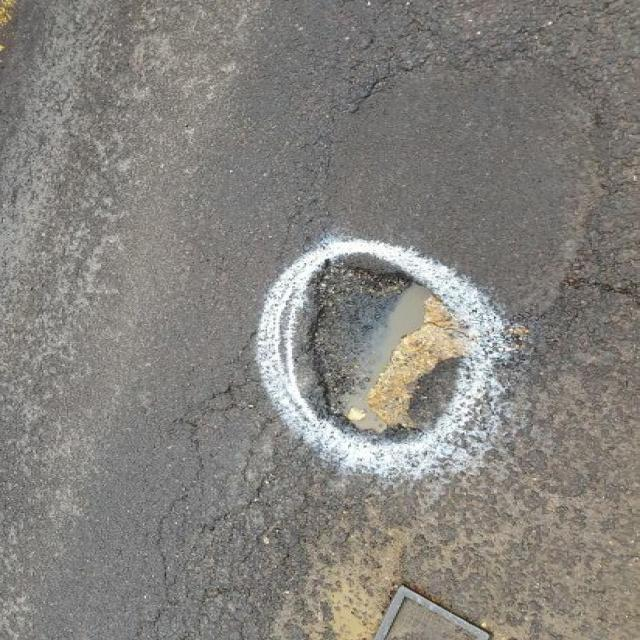pothole: (289, 252, 491, 450)
